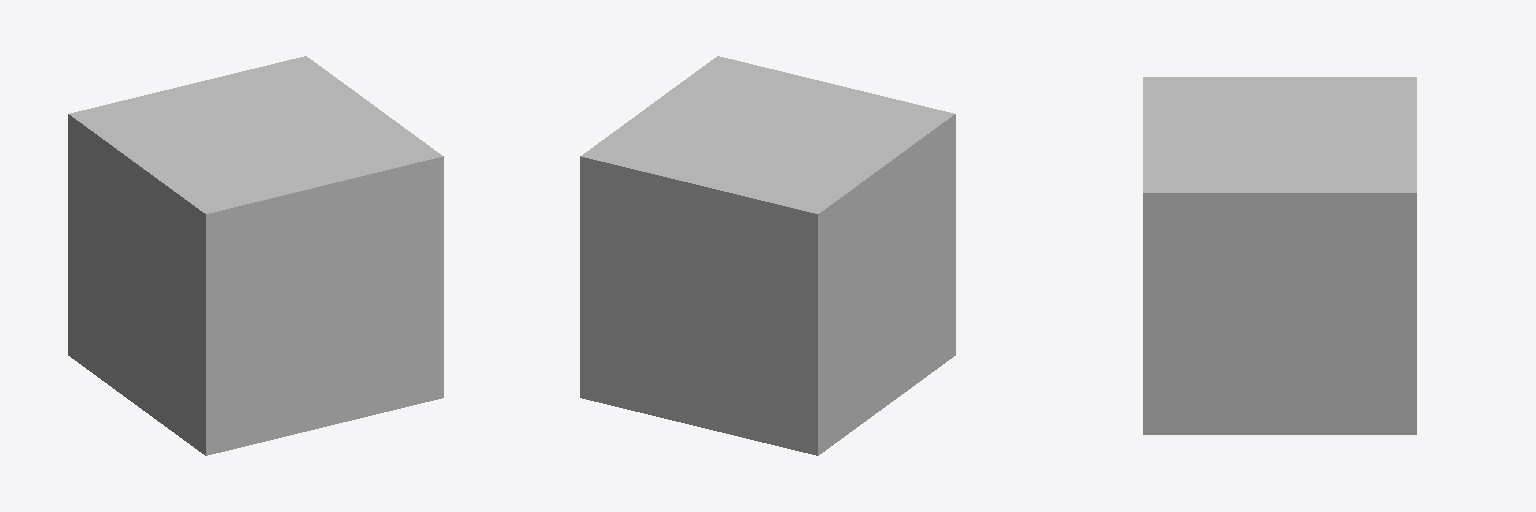
The model's file is MC-Slime.obj.
3 views of the same model, side by side, from view 1: azimuth 30°, elevation 25°; view 2: azimuth 150°, elevation 25°; view 3: azimuth 270°, elevation 25° (orthographic).
Size of the model in its own units: 35 by 34 by 35.